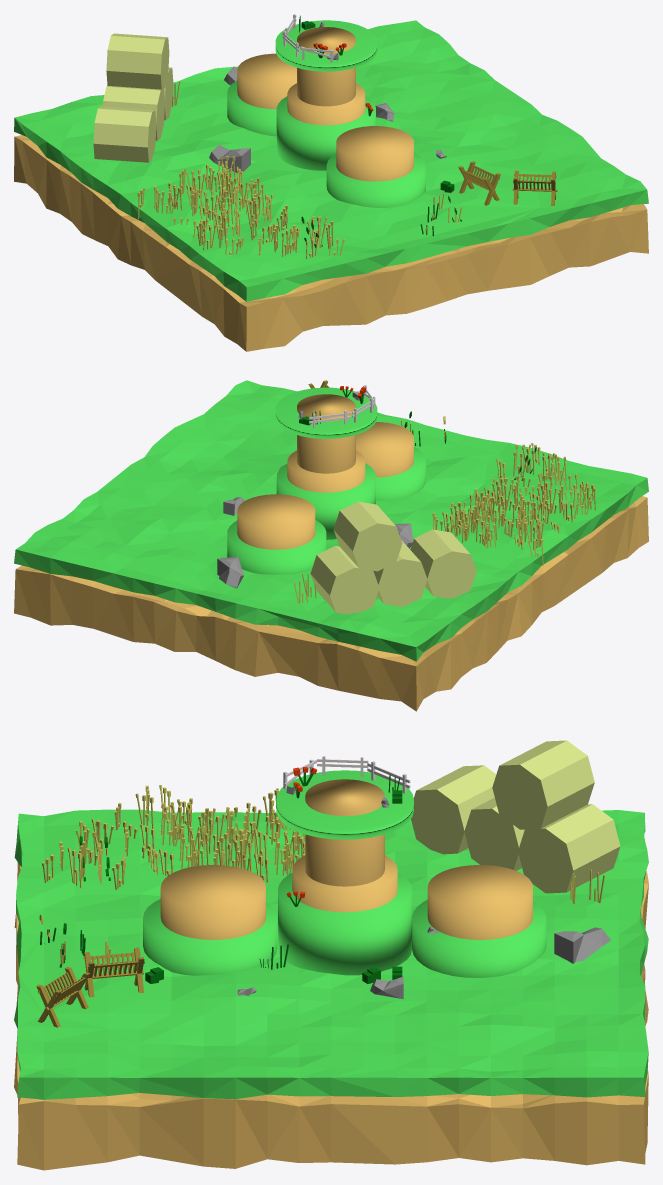
The model's file is Stage.fbx.
3 renders of one model, top to bottom at view 1: azimuth 30°, elevation 25°; view 2: azimuth 150°, elevation 25°; view 3: azimuth 270°, elevation 25°, orthographic. The views are drawn at different scales.
Visible parts, largest first — view 1: Plane.002, Plane.003, Plane.001, Cube.040, Cylinder.004, Cylinder.002, Cylinder, Cylinder.006, Cylinder.003, Cylinder.005, Cylinder.001, Cylinder.007 (+3 smaller); view 2: Plane.002, Plane.003, Plane.001, Cube.040, Cylinder.005, Cylinder, Cylinder.007, Cylinder.003, Cylinder.004, Cylinder.002, Cylinder.001, Cylinder.006 (+1 smaller); view 3: Plane.002, Plane.003, Plane.001, Cube.040, Cylinder.002, Cylinder.004, Cylinder.005, Cylinder, Cylinder.007, Cylinder.006, Cylinder.003, Cylinder.001 (+3 smaller).
Part boxes in pixels (x1,y1,x2,y2): Plane.002: [14, 20, 648, 301]; Plane.003: [14, 135, 648, 351]; Plane.001: [93, 33, 173, 162]; Cube.040: [137, 155, 344, 259]; Cylinder.004: [336, 126, 413, 181]; Cylinder.002: [276, 96, 375, 170]; Cylinder: [297, 27, 355, 106]; Cylinder.006: [326, 152, 425, 207]; Cylinder.003: [275, 20, 377, 71]; Cylinder.005: [237, 53, 296, 109]; Cylinder.001: [287, 83, 365, 125]; Cylinder.007: [227, 80, 276, 136]; Plane.002: [14, 380, 648, 661]; Plane.003: [14, 496, 648, 711]; Plane.001: [310, 501, 476, 614]; Cube.040: [432, 443, 595, 565]; Cylinder.005: [237, 494, 315, 549]; Cylinder: [297, 394, 355, 473]; Cylinder.007: [227, 520, 326, 574]; Cylinder.003: [275, 387, 377, 438]; Cylinder.004: [356, 422, 413, 477]; Cylinder.002: [276, 463, 375, 539]; Cylinder.001: [287, 450, 365, 492]; Cylinder.006: [376, 447, 425, 500]; Plane.002: [14, 809, 648, 1099]; Plane.003: [14, 838, 648, 1170]; Plane.001: [411, 740, 620, 893]; Cube.040: [42, 785, 305, 889]; Cylinder.002: [278, 873, 412, 975]; Cylinder.004: [160, 865, 265, 939]; Cylinder.005: [427, 865, 532, 939]; Cylinder: [305, 779, 384, 886]; Cylinder.007: [412, 900, 546, 977]; Cylinder.006: [143, 899, 277, 975]; Cylinder.003: [276, 770, 413, 839]; Cylinder.001: [292, 855, 397, 912].
Size of the model in its own units: 1596 by 719 by 1594.
